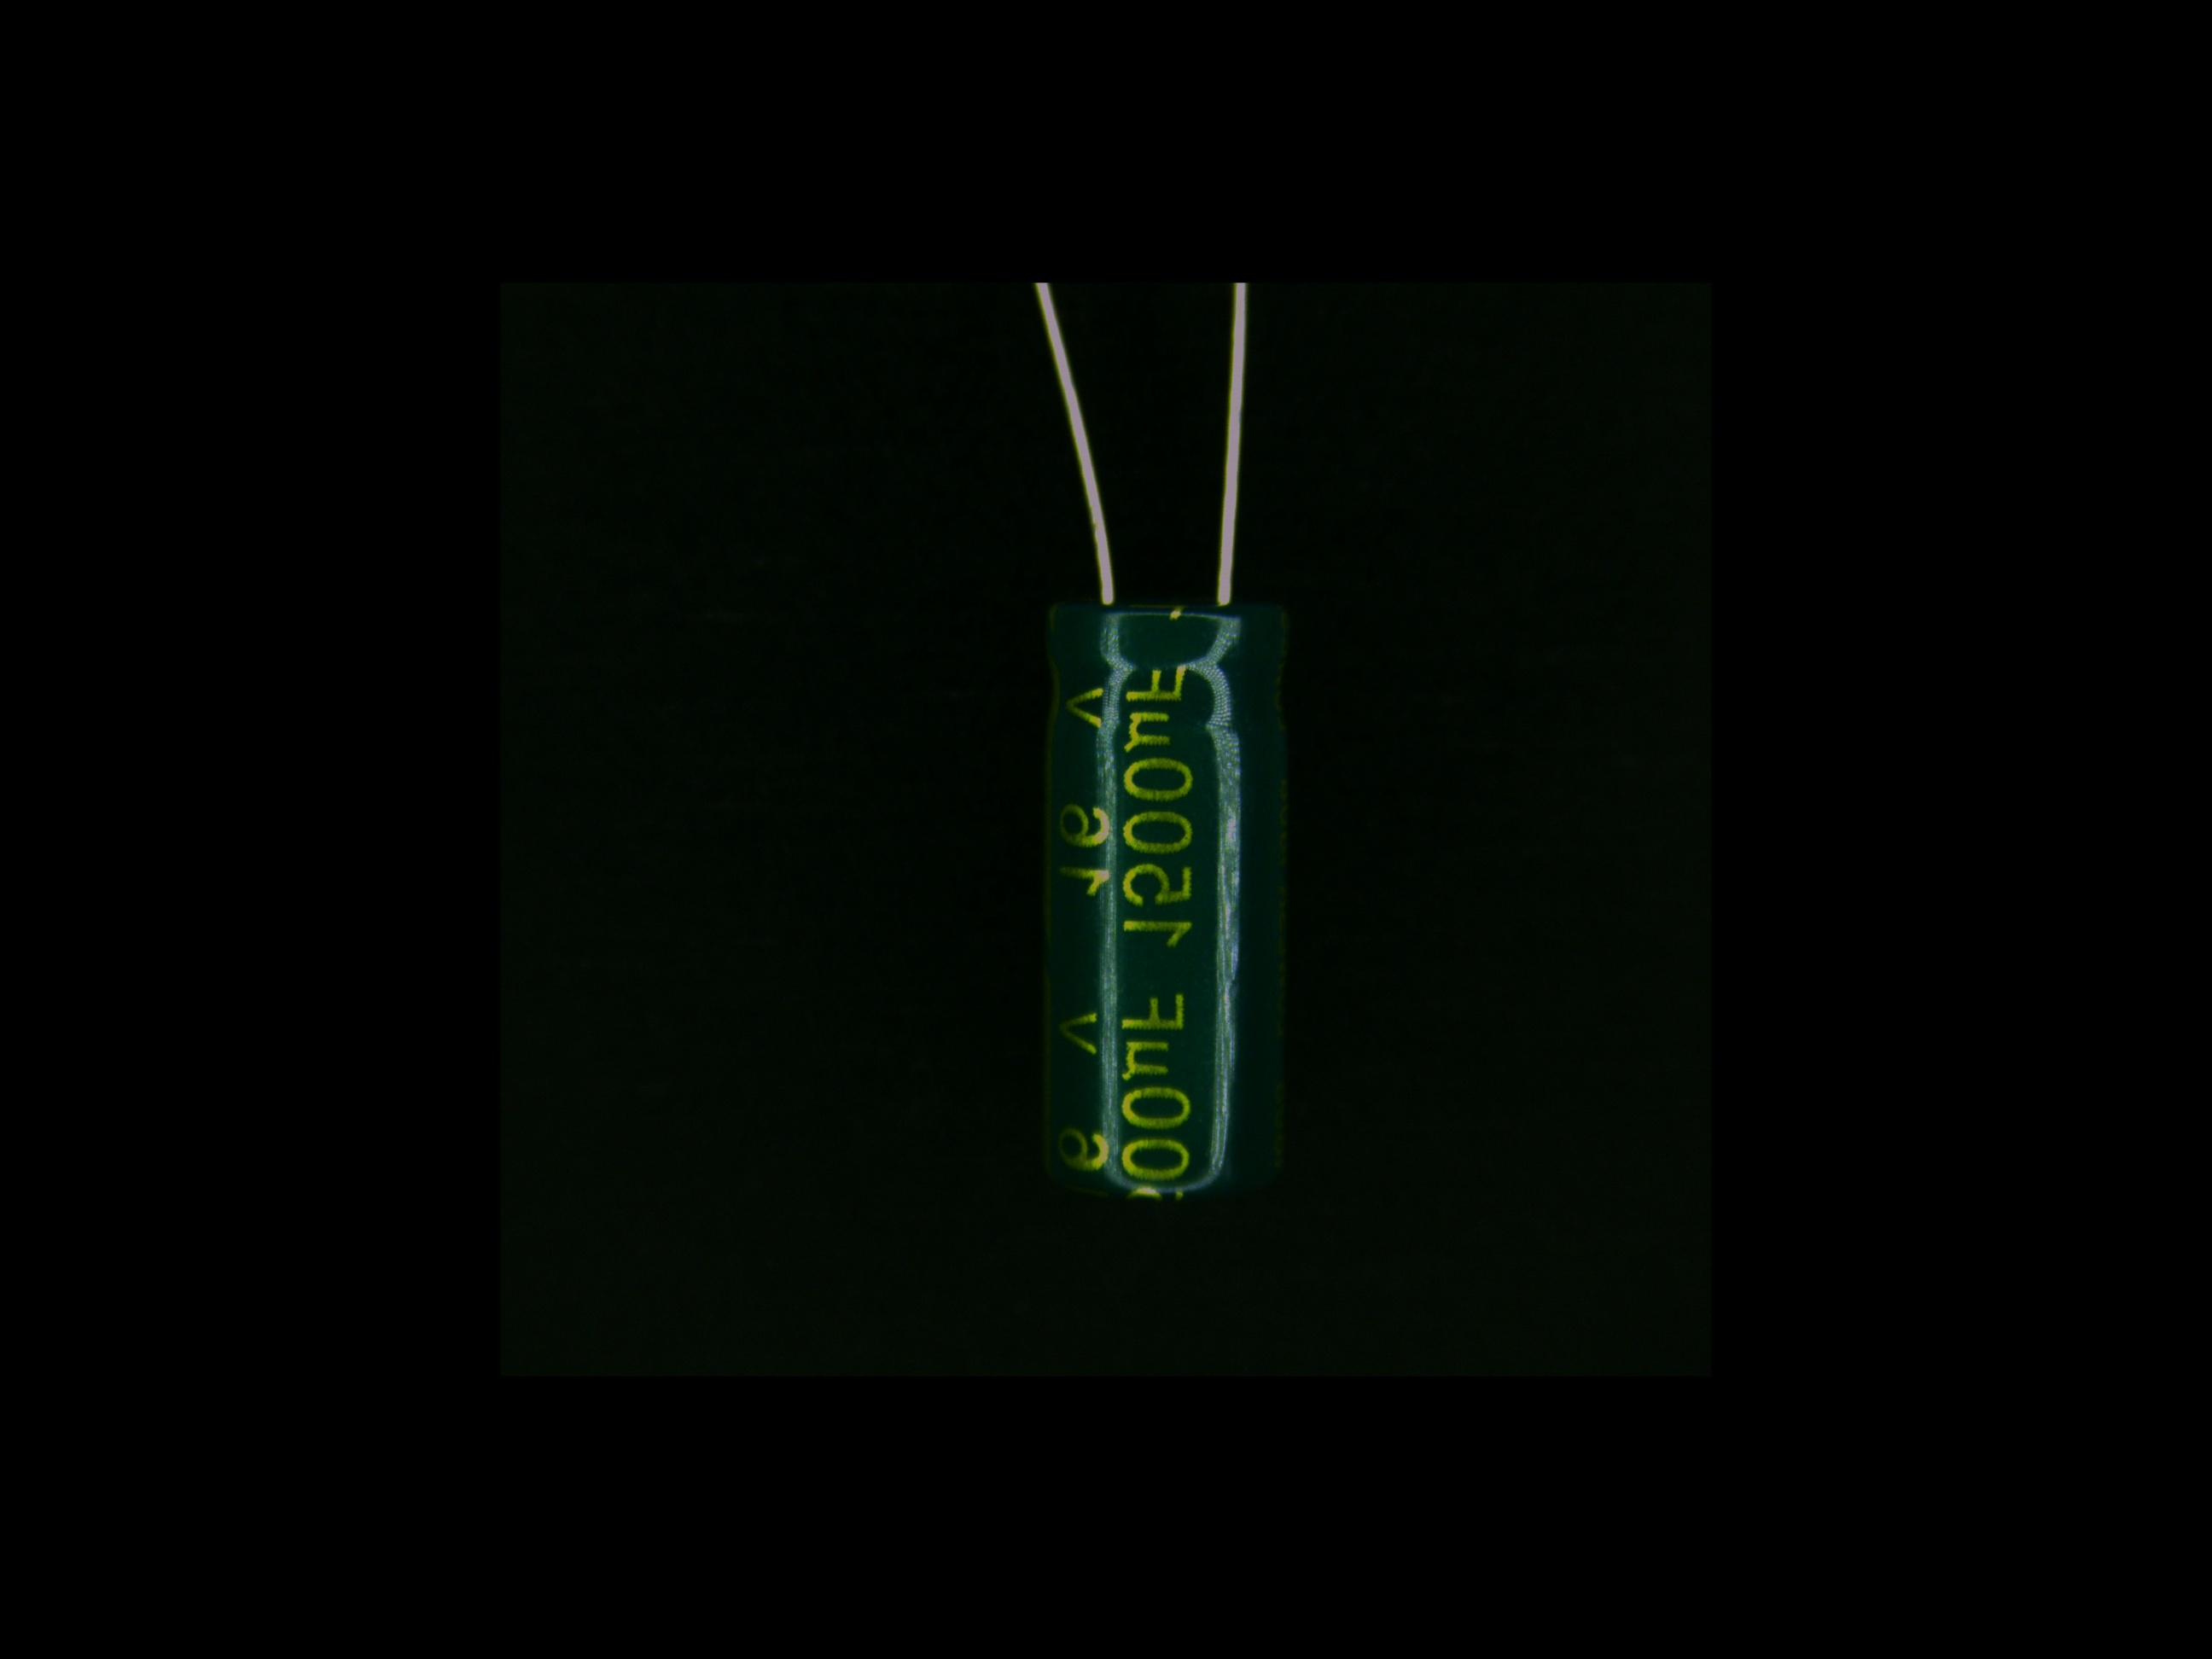c1: (1035, 512, 1296, 1204)
